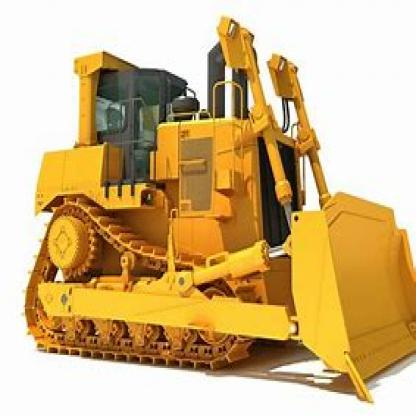bull_dozer/loader/grader: (11, 11, 414, 398)
